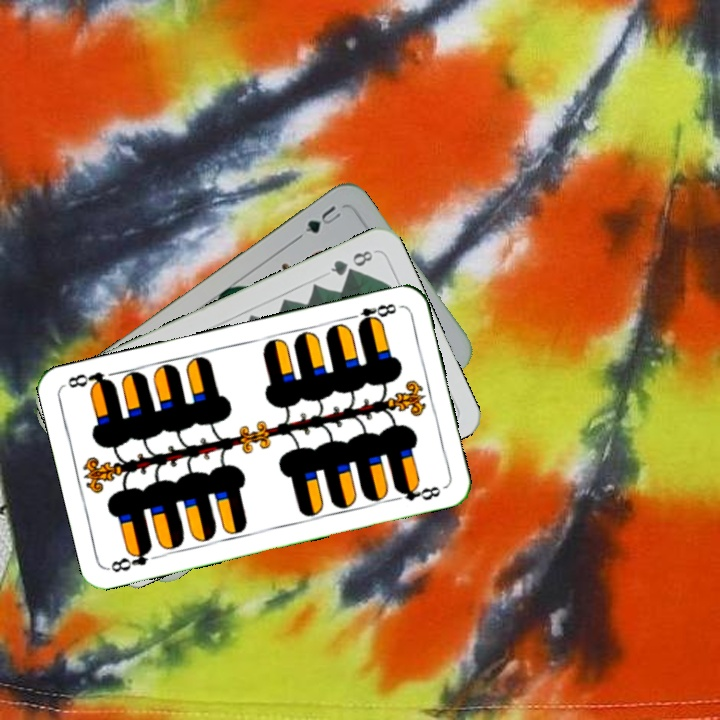E8: (344, 299, 399, 329), (105, 542, 155, 575)
G8: (326, 246, 376, 279)
GU: (293, 201, 344, 242)
